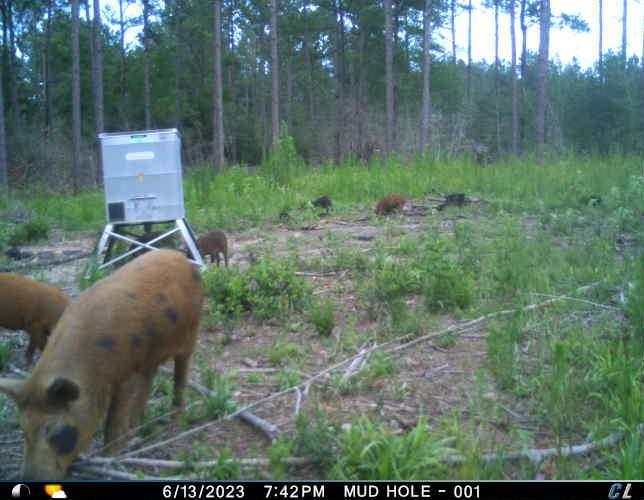Hog: (0, 243, 205, 480), (0, 270, 69, 363), (197, 226, 235, 265), (371, 194, 415, 219)
